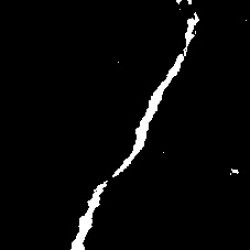crack: (113, 54, 184, 177), (72, 180, 108, 249), (184, 12, 199, 56)
pinhole: (232, 170, 238, 175)
